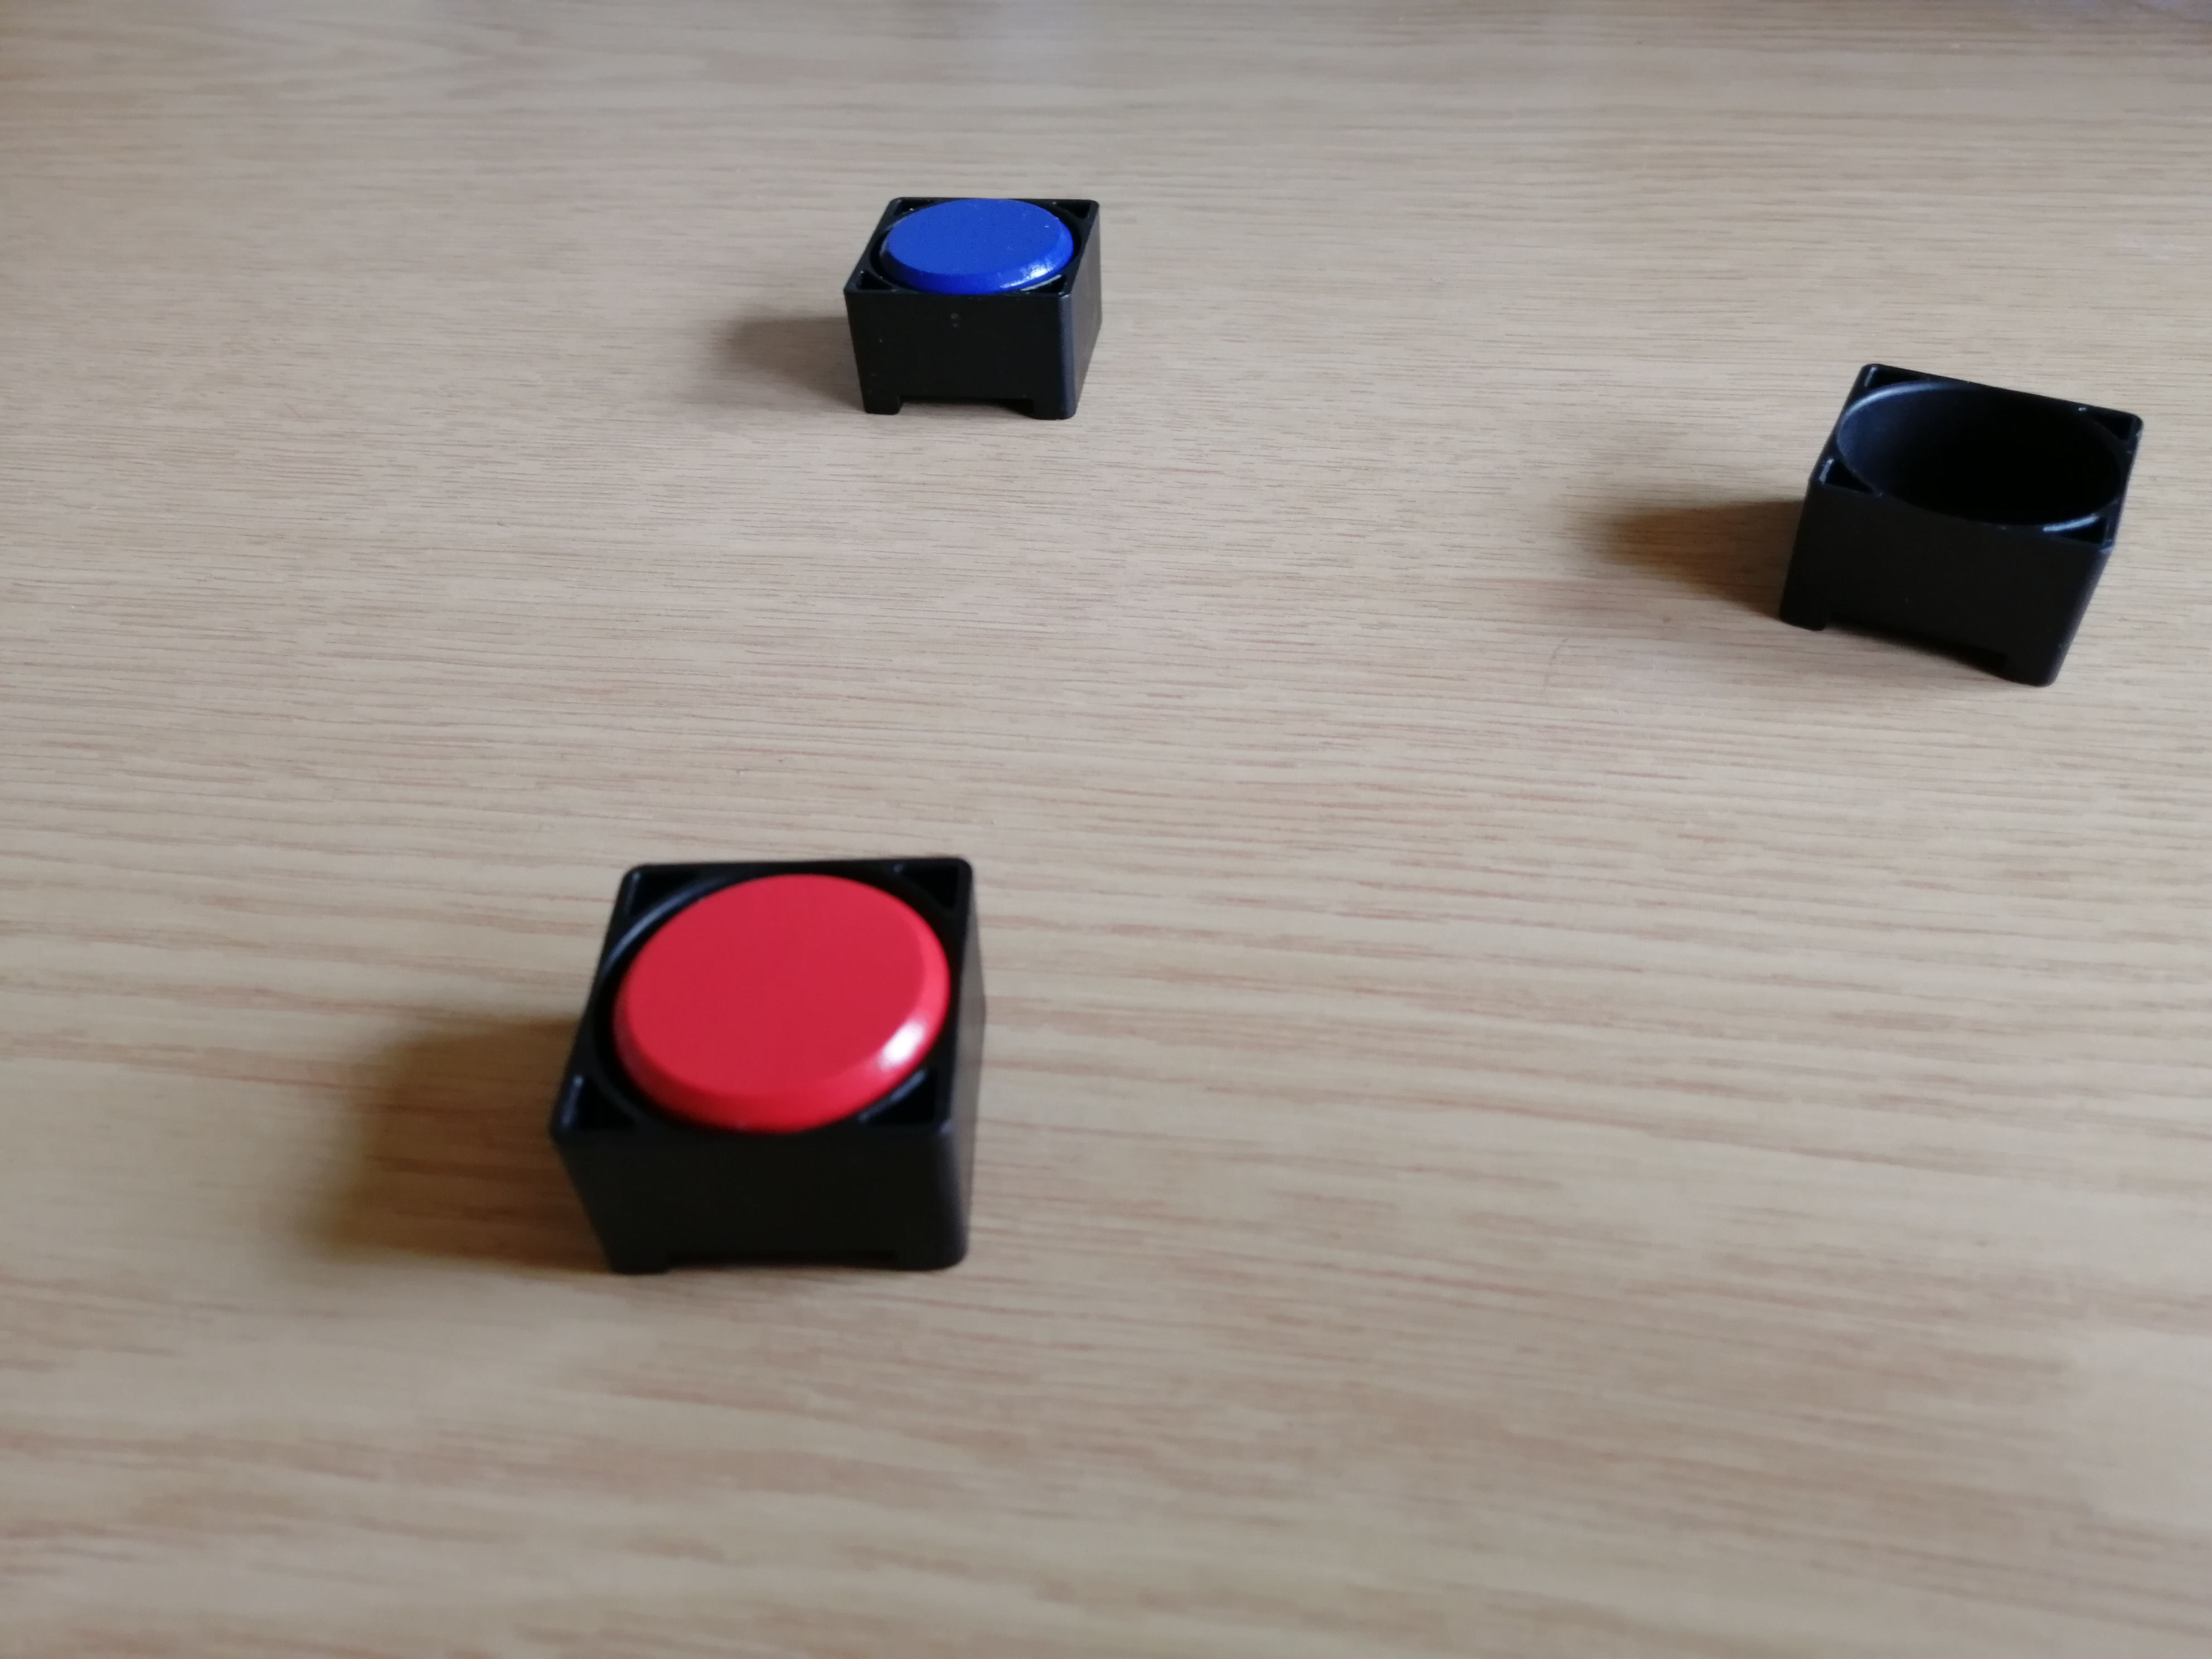Behaelter: (543, 852, 982, 1277), (1770, 359, 2142, 681), (846, 200, 1104, 420)
WerkStueck: (622, 882, 937, 1127), (888, 200, 1066, 296)
